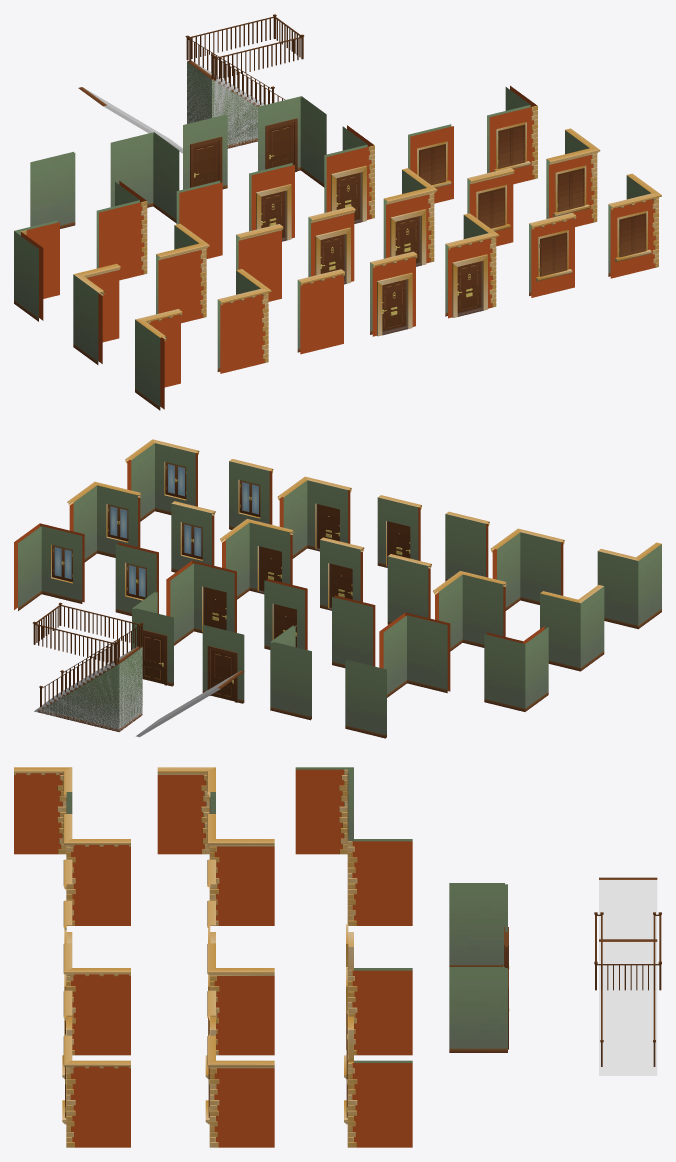
The model's file is Wall01.fbx.
3 views of the same model, one above another, from view 1: azimuth 30°, elevation 25°; view 2: azimuth 150°, elevation 25°; view 3: azimuth 270°, elevation 25° (orthographic). The views are drawn at different scales.
Parts seen in each view (by area): view 1: IW01_02, OW01_16, OW01_08, OW01_15, OW01_01, IW01_04, OW01_09, OW01_17, OW01_02, IW01_S01, IW01_01, IW01_S01_Col (+28 smaller); view 2: OW01_02, IW01_S01, OW01_01, OW01_07, OW01_15, OW01_08, OW01_16, OW01_09, OW01_21, OW01_05, OW01_14, OW01_19 (+30 smaller); view 3: IW01_S01_Col, OW01_21, OW01_14, OW01_19, OW01_12, OW01_09, OW01_16, OW01_05, OW01_07, IW01_04, OW01_02, IW01_02 (+10 smaller).
Boxes of the visible parts, left/top/right/bottom form: IW01_02: left=110, top=132, right=179, bottom=223; OW01_16: left=217, top=269, right=271, bottom=373; OW01_08: left=73, top=263, right=120, bottom=364; OW01_15: left=135, top=309, right=182, bottom=410; OW01_01: left=14, top=220, right=59, bottom=321; IW01_04: left=258, top=96, right=326, bottom=187; OW01_09: left=156, top=223, right=209, bottom=323; OW01_17: left=297, top=269, right=344, bottom=354; OW01_02: left=96, top=181, right=146, bottom=280; IW01_S01: left=187, top=61, right=259, bottom=148; IW01_01: left=30, top=151, right=75, bottom=228; IW01_S01_Col: left=187, top=61, right=264, bottom=148; OW01_02: left=379, top=612, right=450, bottom=697; IW01_S01: left=38, top=646, right=142, bottom=731; OW01_01: left=484, top=626, right=548, bottom=711; OW01_07: left=14, top=523, right=84, bottom=610; OW01_15: left=597, top=542, right=661, bottom=629; OW01_08: left=540, top=585, right=604, bottom=671; OW01_16: left=490, top=528, right=564, bottom=610; OW01_09: left=433, top=571, right=506, bottom=651; OW01_21: left=125, top=439, right=199, bottom=521; OW01_05: left=166, top=560, right=236, bottom=645; OW01_14: left=67, top=481, right=141, bottom=562; OW01_19: left=277, top=476, right=351, bottom=558; IW01_S01_Col: left=599, top=942, right=657, bottom=1075; OW01_21: left=62, top=1035, right=130, bottom=1147; OW01_14: left=205, top=1035, right=274, bottom=1147; OW01_19: left=63, top=943, right=130, bottom=1055; OW01_12: left=207, top=943, right=274, bottom=1055; OW01_09: left=207, top=814, right=274, bottom=925; OW01_16: left=63, top=814, right=130, bottom=925; OW01_05: left=346, top=967, right=412, bottom=1055; OW01_07: left=344, top=1055, right=412, bottom=1147; IW01_04: left=449, top=967, right=508, bottom=1052; OW01_02: left=352, top=839, right=412, bottom=925; IW01_02: left=449, top=883, right=507, bottom=966.
Size of the model in its own units: 24.04 by 4.24 by 22.17.
